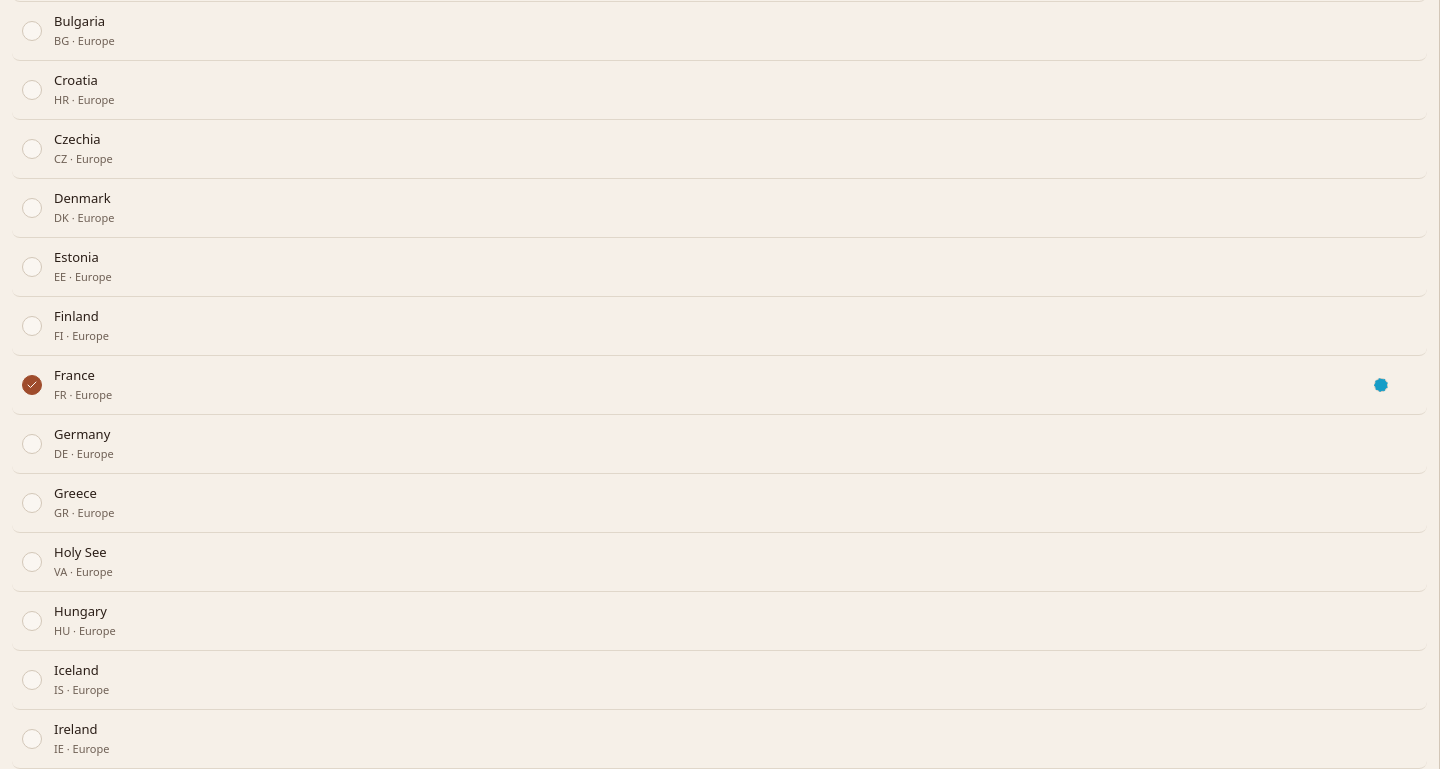
Scenario: custom color control › adopts the documented default when a custom color is set
The image size is (1440, 769).
(page scrolled)
What coordinates should you click on to do the following:
click the button named "Set a custom color for France"
I would click on:
 (1381, 384)
Its box is [1369,372,1393,396].
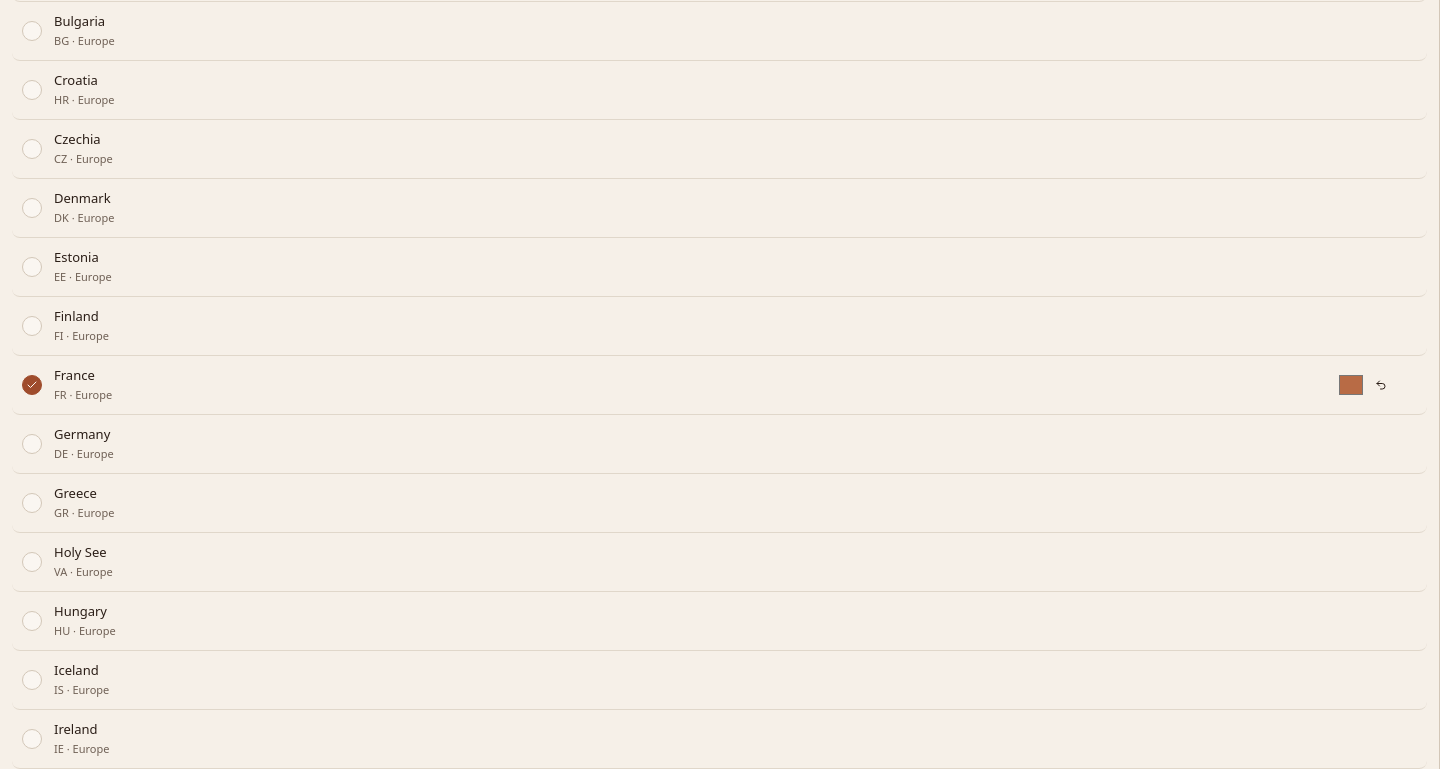
Expected: the colour field named "Custom color for France" holds "#b86b45", [1337,370,1365,398]
